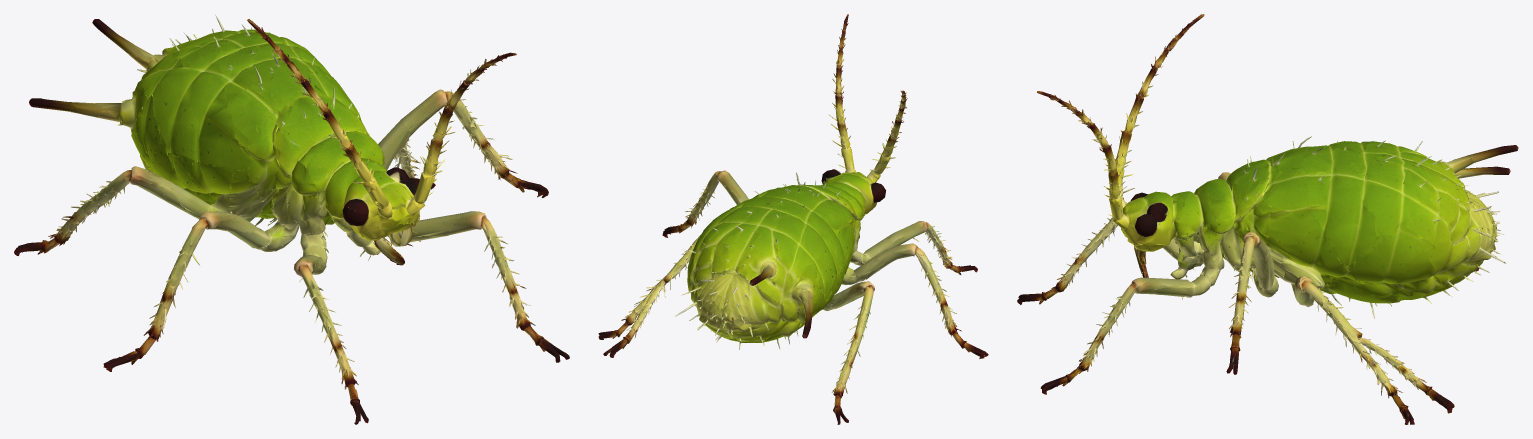
File: afid-blender.glb
3 views of the same model, side by side, from view 1: azimuth 30°, elevation 25°; view 2: azimuth 150°, elevation 25°; view 3: azimuth 270°, elevation 25° (orthographic). The views are drawn at different scales.
Visible parts, largest first — view 1: Mesh_0; view 2: Mesh_0; view 3: Mesh_0.
Part boxes in pixels (x1=…): Mesh_0: x1=14, y1=14, x2=569, y2=424; Mesh_0: x1=598, y1=14, x2=988, y2=424; Mesh_0: x1=1017, y1=14, x2=1518, y2=424.
Bounding box in the file's own units: 1.67 × 1.19 × 1.89.
Materials: 1 (1 with a texture image).
